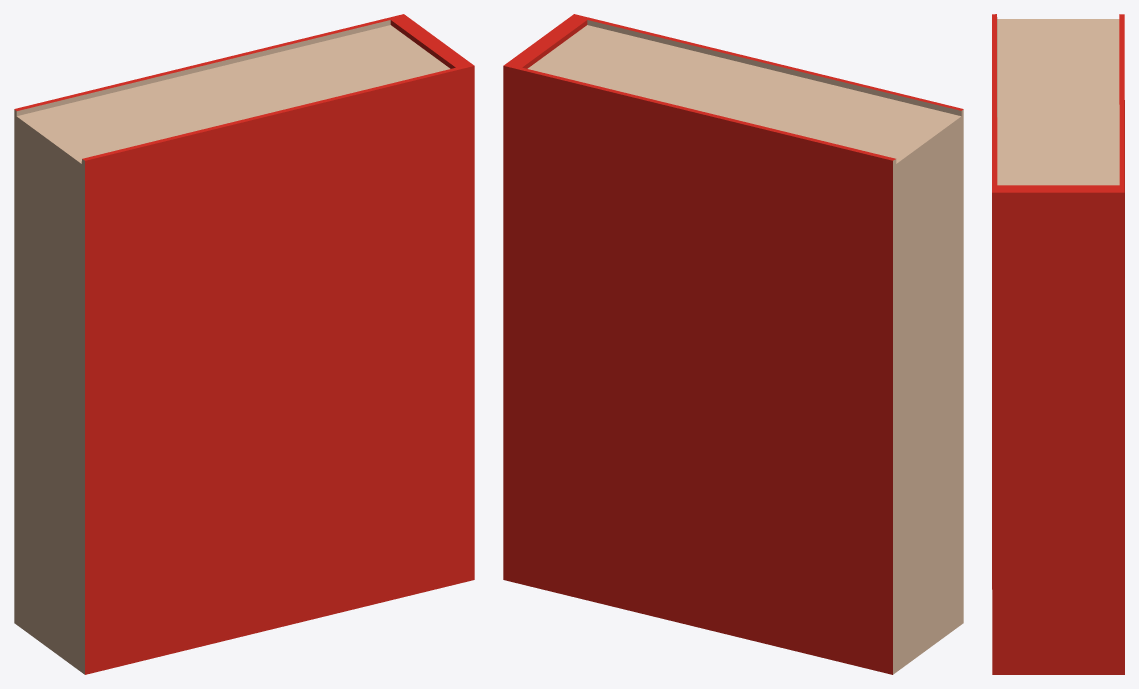
Rendered from Book.fbx.
3 views of the same model, side by side, from view 1: azimuth 30°, elevation 25°; view 2: azimuth 150°, elevation 25°; view 3: azimuth 270°, elevation 25° (orthographic). The views are drawn at different scales.
Visible parts, largest first — view 1: BookshelfFull.002; view 2: BookshelfFull.002; view 3: BookshelfFull.002.
Part boxes in pixels (x1,y1,x2,y2): BookshelfFull.002: (14,14,474,674); BookshelfFull.002: (503,14,963,674); BookshelfFull.002: (992,14,1124,674).
Size of the model in its own units: 38.32 by 48.27 by 12.05.
